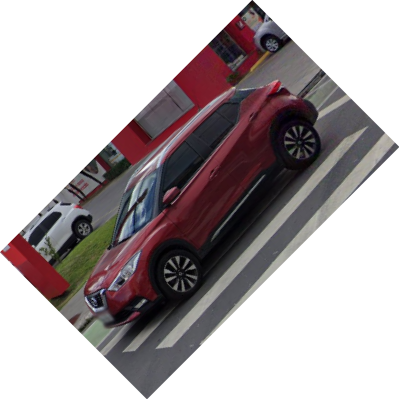car: (82, 83, 322, 335)
